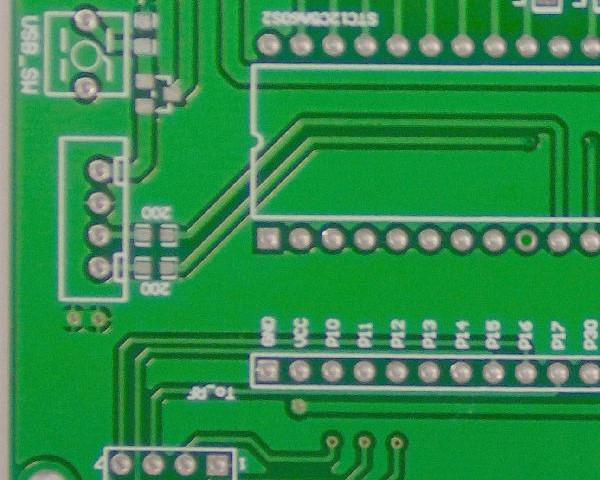missing hole: (512, 225, 545, 257)
